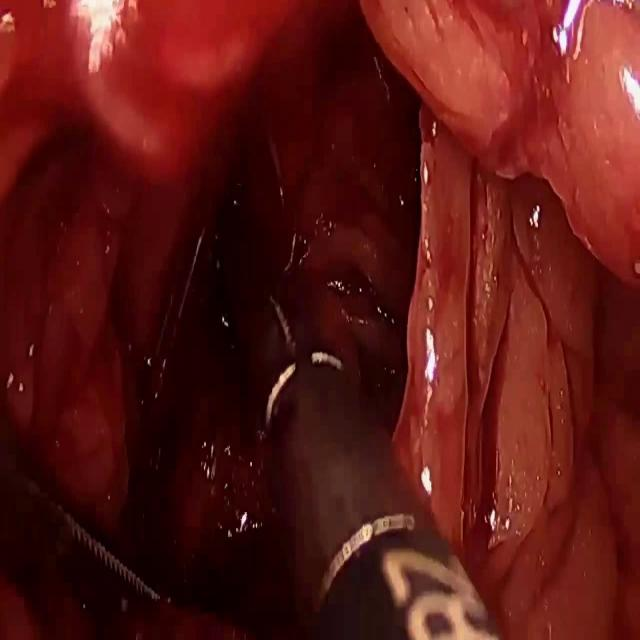surgical-area: (0, 0, 640, 639)
surgical-tool: (250, 268, 504, 639)
